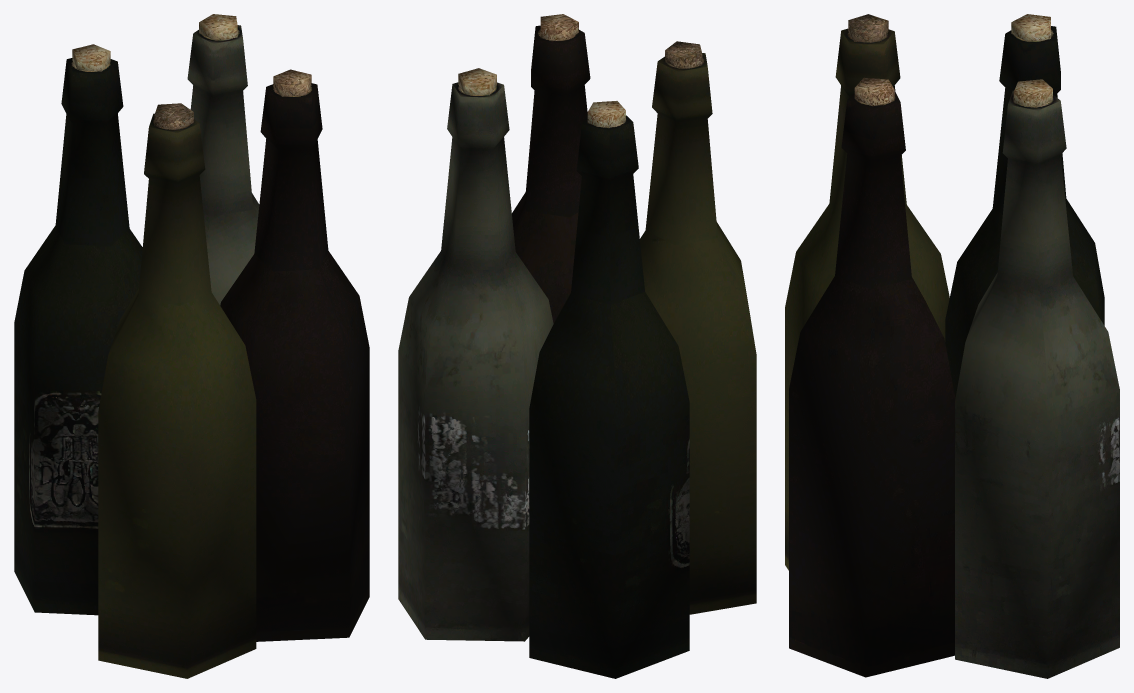
File: wine_stack_amfp.dae
3 views of the same model, side by side, from view 1: azimuth 30°, elevation 25°; view 2: azimuth 150°, elevation 25°; view 3: azimuth 270°, elevation 25° (orthographic). The views are drawn at different scales.
Visible parts, largest first — view 1: wine_stack; view 2: wine_stack; view 3: wine_stack.
Boxes of the visible parts, x1,y1,x2,y2 form: wine_stack: [14, 14, 369, 678]; wine_stack: [398, 14, 756, 678]; wine_stack: [785, 14, 1119, 678].
Size of the model in its own units: 0.1884 by 0.3527 by 0.1929.
